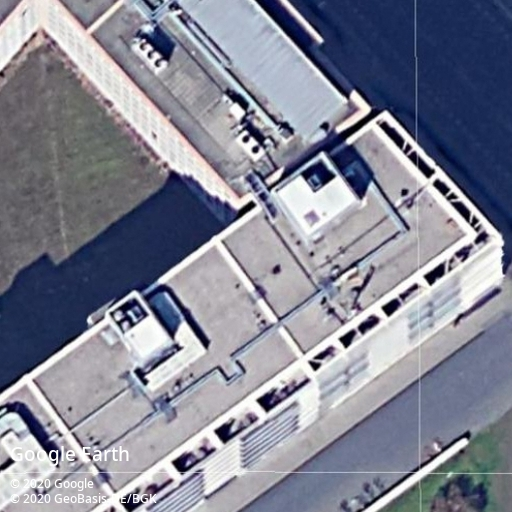Chiller: (134, 37, 169, 74), (235, 130, 267, 162)
